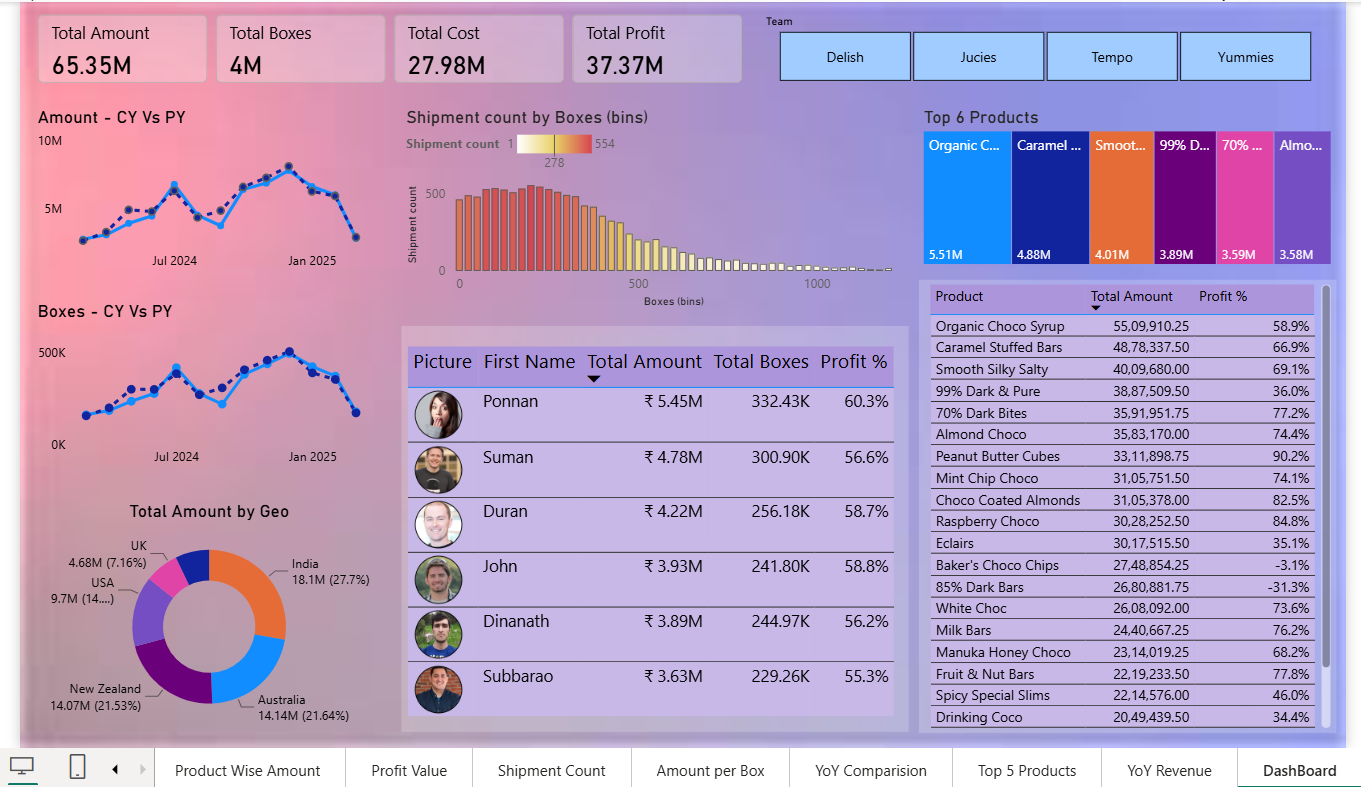

Layout of this report page (visuals, bound fields, positions):
{"tool":"powerbi","page":{"name":"DashBoard","canvas":[1280,720],"ordinal":7},"visuals":[{"type":"lineChart","title":"Amount - CY Vs PY","fields":{"Category":["calendar.Start of Month"],"Y":["shipments.Total Amount","shipments.Previous Year Revenue"]},"box":[12.1,90.5,341.4,177.3],"z":0},{"type":"lineChart","title":"Boxes - CY Vs PY","fields":{"Category":["calendar.Start of Month"],"Y":["shipments.Sum of Boxes","shipments.Total Boxes (Last Year)"]},"box":[12.1,277.5,341.4,179.8],"z":1000},{"type":"donutChart","fields":{"Category":["locations.Geo"],"Y":["shipments.Total Amount"]},"box":[12.1,470.5,341.4,235.3],"z":2000},{"type":"clusteredColumnChart","fields":{"Category":["shipments.Boxes (bins)"],"Y":["shipments.Shipment count"]},"box":[368,90.5,489.8,208.7],"z":3000},{"type":"tableEx","fields":{"Values":["people.Picture","people.First Name","shipments.Total Amount","shipments.Total Boxes","shipments.Profit %"]},"box":[368,312.5,489.8,392.1],"z":4000},{"type":"tableEx","fields":{"Values":["products.Product","shipments.Total Amount","shipments.Profit %"]},"box":[867.4,267.8,403,437.9],"z":5000},{"type":"treemap","title":"Top 6 Products","fields":{"Group":["products.Product"],"Values":["shipments.Total Amount"]},"box":[867.4,90.5,403,167.7],"z":6000},{"type":"cardVisual","fields":{"Data":["shipments.Total Amount","shipments.Total Boxes","shipments.Total Cost","shipments.Total Profit"]},"box":[12.1,7.2,693.7,76],"z":7000},{"type":"slicer","fields":{"Values":["people.Team"]},"box":[707,7.2,563.4,76],"z":8000}]}

Visuals, with their boxes on the page's 1280x720 design canvas (x1, y1, x2, y2). These are canvas units, not pixel positions in the 1361x787 screenshot, which may show the page scaled, cropped or inside an application window:
"Amount - CY Vs PY" lineChart: region(12, 90, 354, 268)
"Boxes - CY Vs PY" lineChart: region(12, 278, 354, 457)
donutChart - locations.Geo x shipments.Total Amount: region(12, 470, 354, 706)
clusteredColumnChart - shipments.Boxes (bins) x shipments.Shipment count: region(368, 90, 858, 299)
tableEx - people.Picture x people.First Name: region(368, 312, 858, 705)
tableEx - products.Product x shipments.Total Amount: region(867, 268, 1270, 706)
"Top 6 Products" treemap: region(867, 90, 1270, 258)
cardVisual - shipments.Total Amount x shipments.Total Boxes: region(12, 7, 706, 83)
slicer - people.Team: region(707, 7, 1270, 83)
